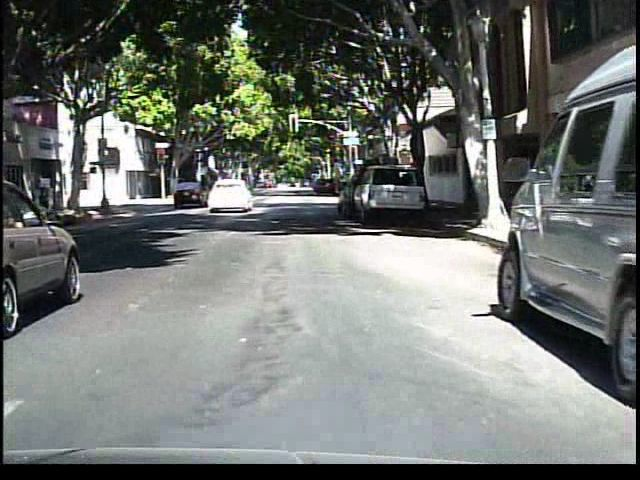person: (207, 170, 231, 210)
